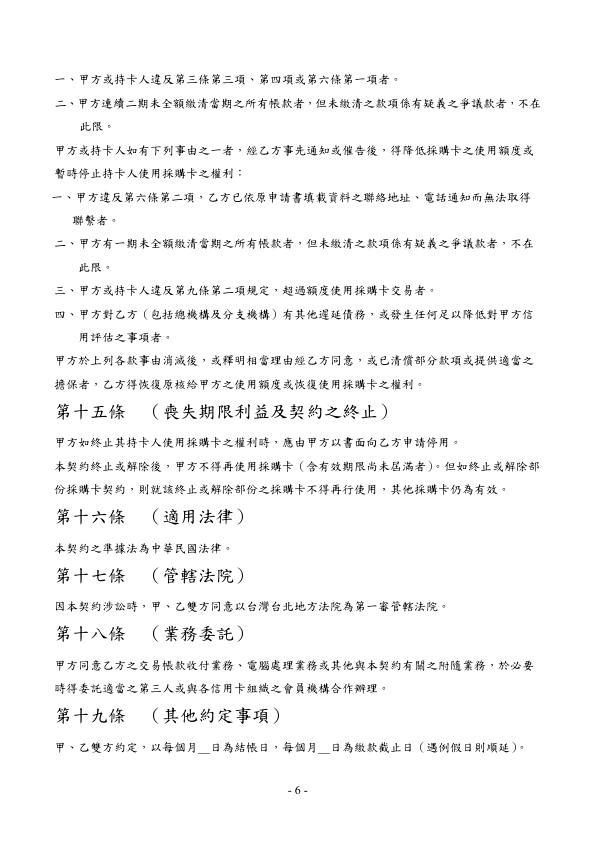input: (318, 741, 329, 760), (198, 740, 208, 759)
text: (51, 435, 542, 501), (50, 350, 534, 394), (54, 655, 535, 699), (55, 95, 543, 137), (50, 141, 542, 182), (51, 235, 539, 275), (48, 191, 536, 228), (50, 307, 535, 343), (52, 401, 394, 422), (53, 598, 450, 615), (48, 71, 402, 90), (50, 284, 441, 300), (55, 705, 284, 728), (53, 564, 247, 588), (332, 738, 530, 761), (51, 507, 244, 530), (54, 624, 244, 645), (51, 539, 235, 557), (51, 738, 197, 759), (212, 736, 315, 758)
